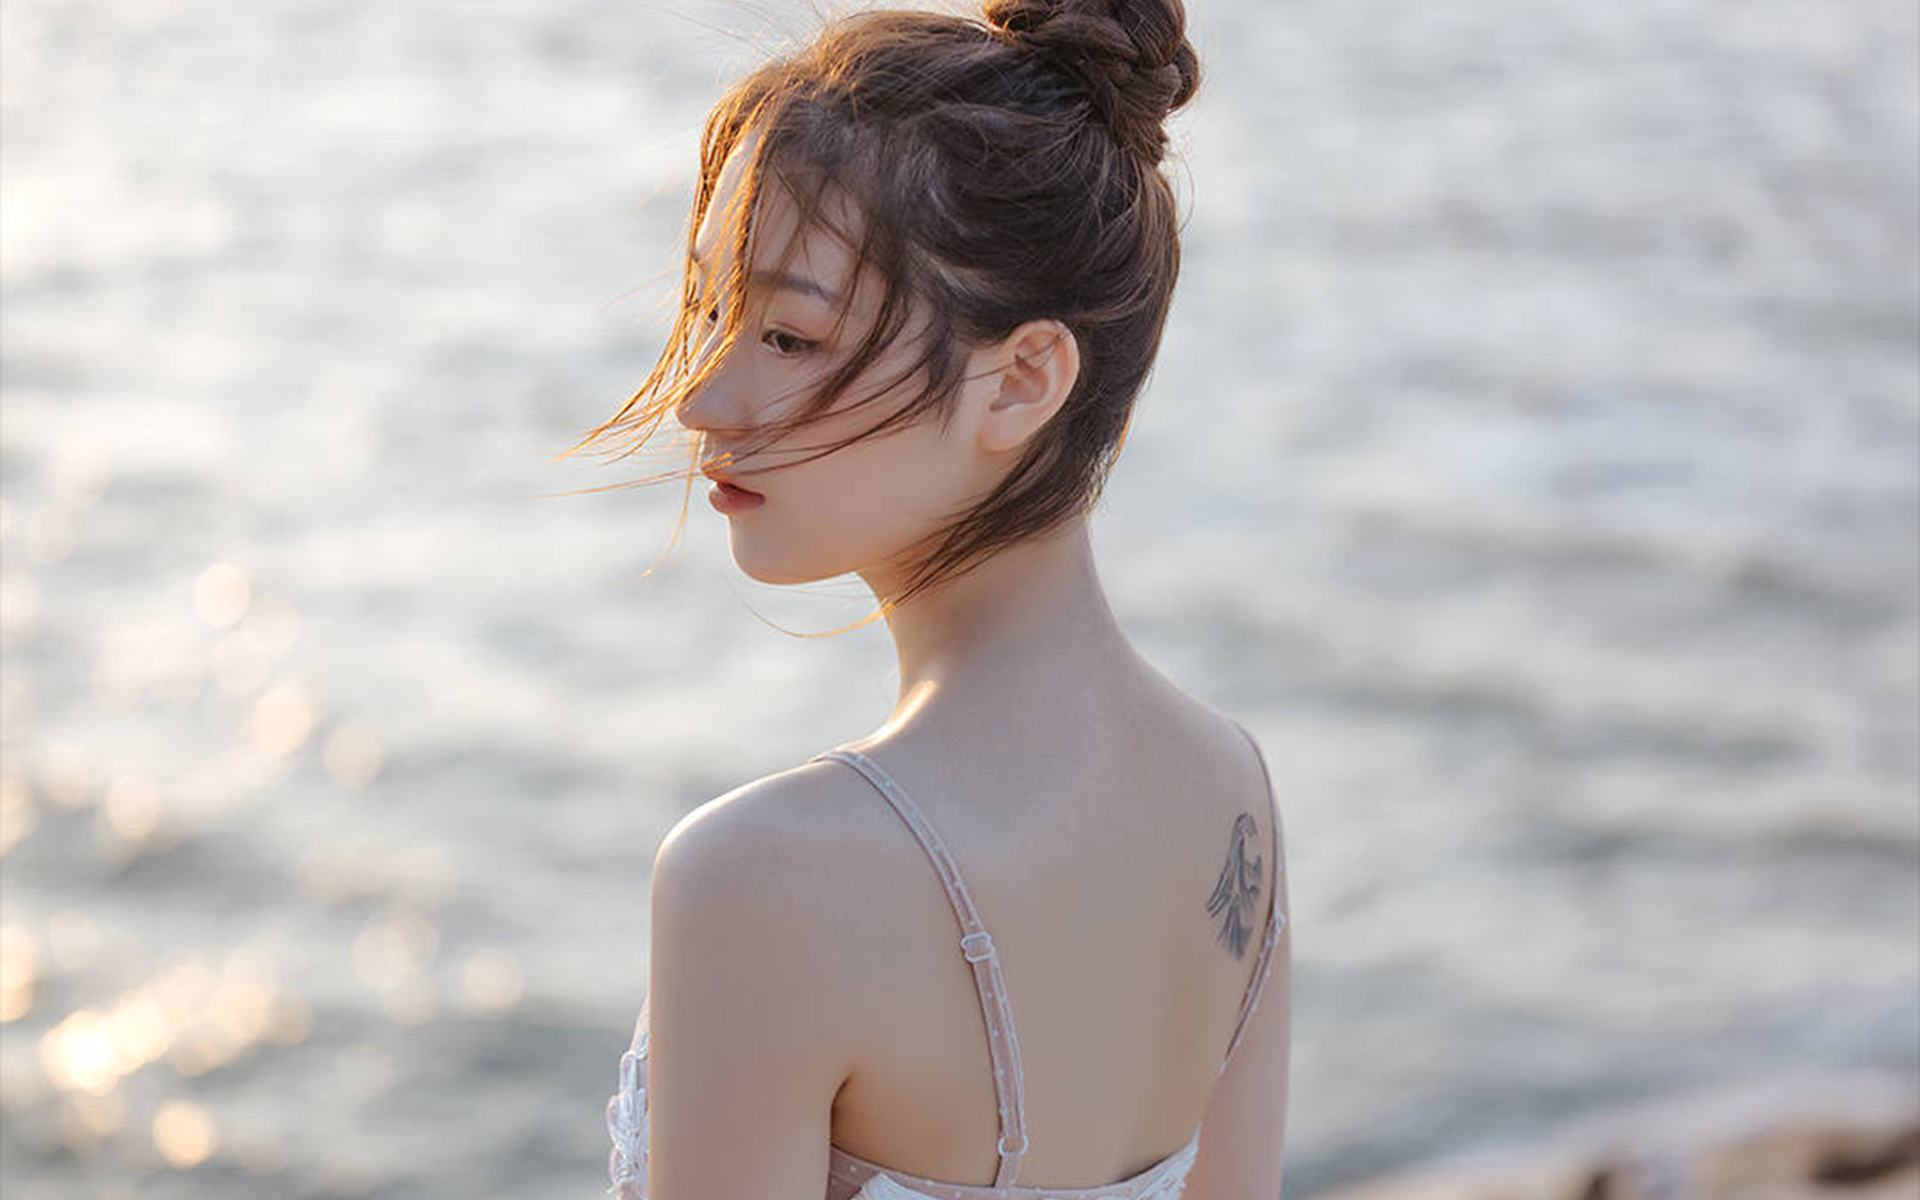person: (468, 9, 1363, 1183)
